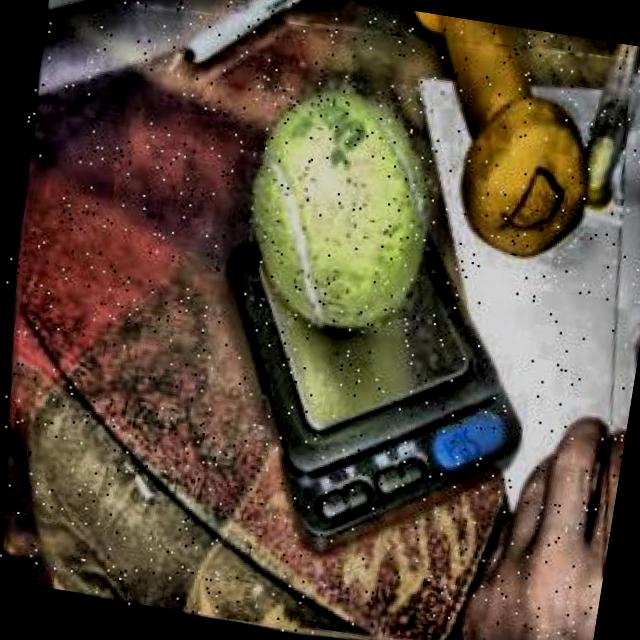Tennis Ball: (214, 59, 469, 358)
